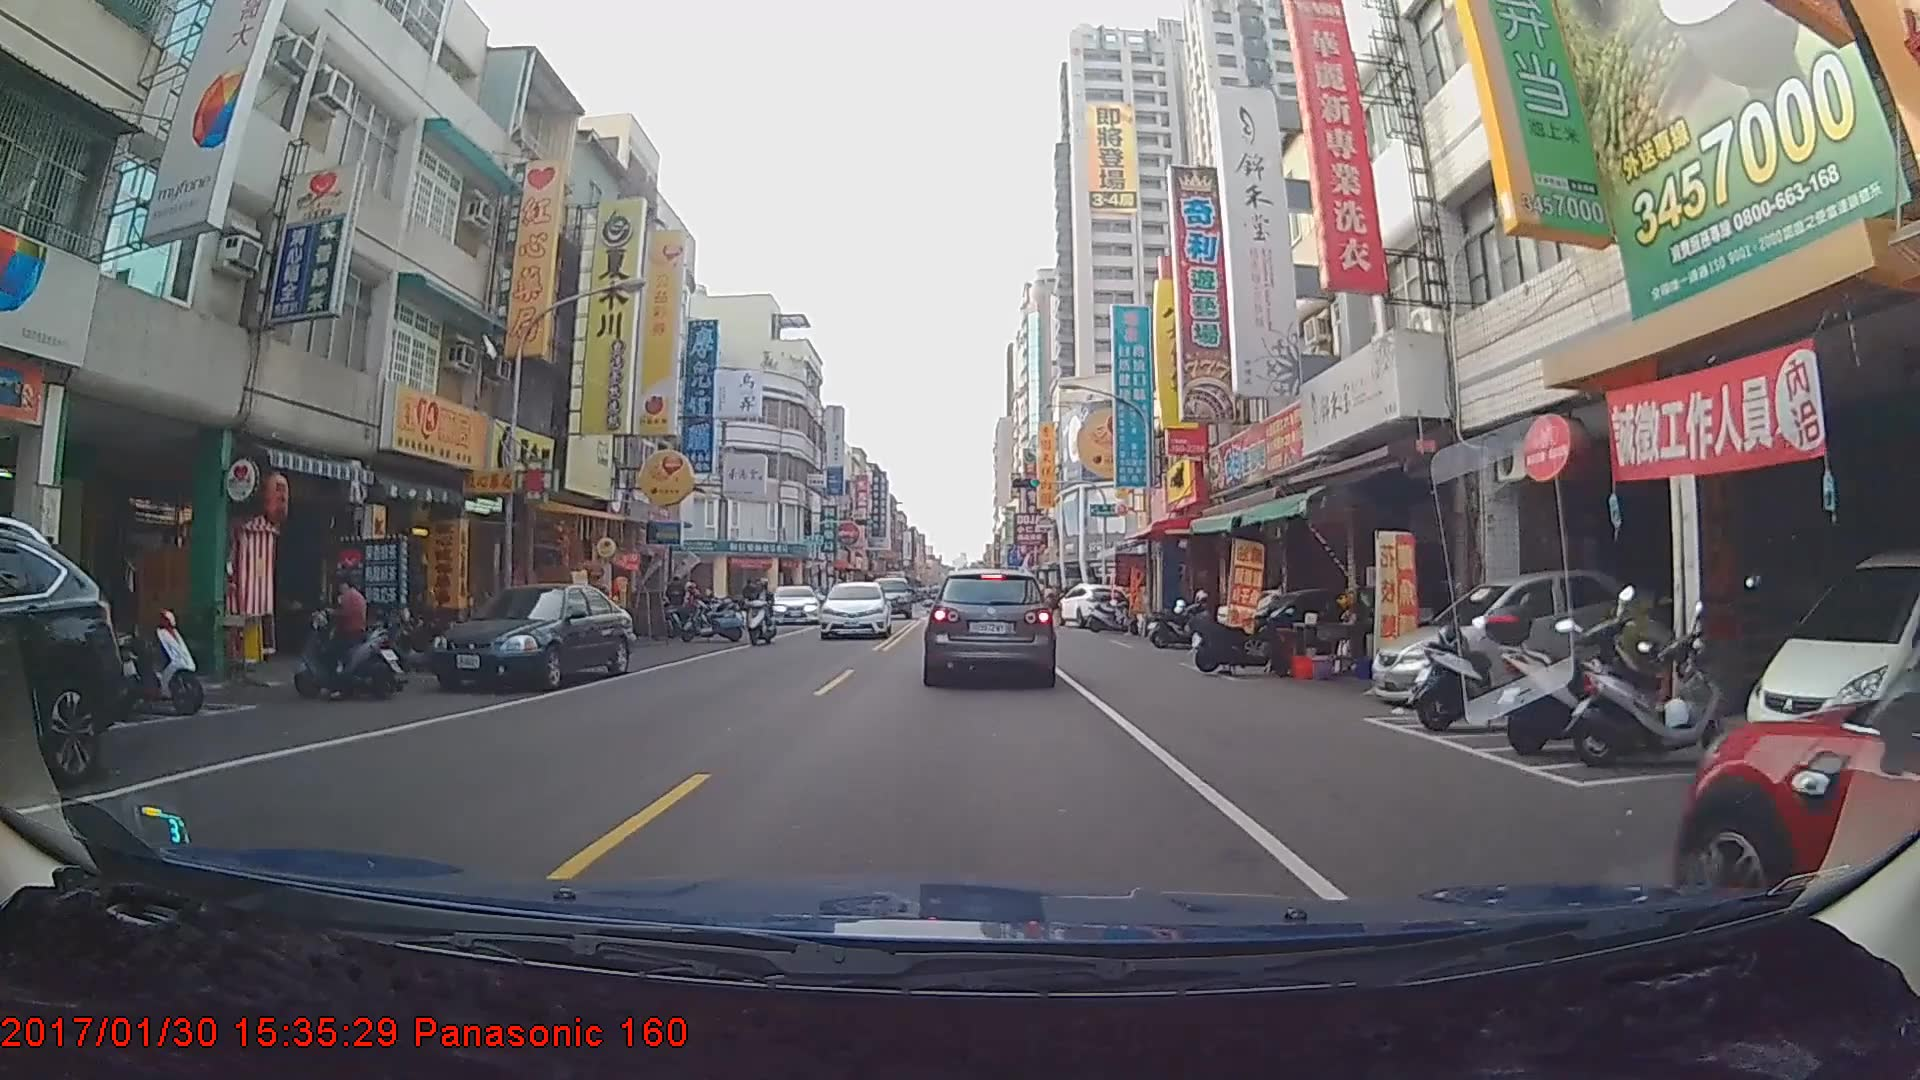pedestrian: (1045, 586, 1065, 632)
rider: (292, 571, 411, 709), (744, 584, 781, 649)
vehicle: (1669, 555, 1918, 984), (0, 515, 127, 804), (430, 586, 639, 689), (923, 565, 1055, 684), (820, 577, 888, 637), (1056, 582, 1134, 631), (768, 583, 820, 625), (866, 577, 911, 620)
